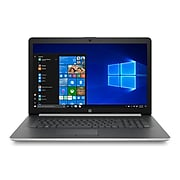Laptop: (8, 36, 173, 145)
